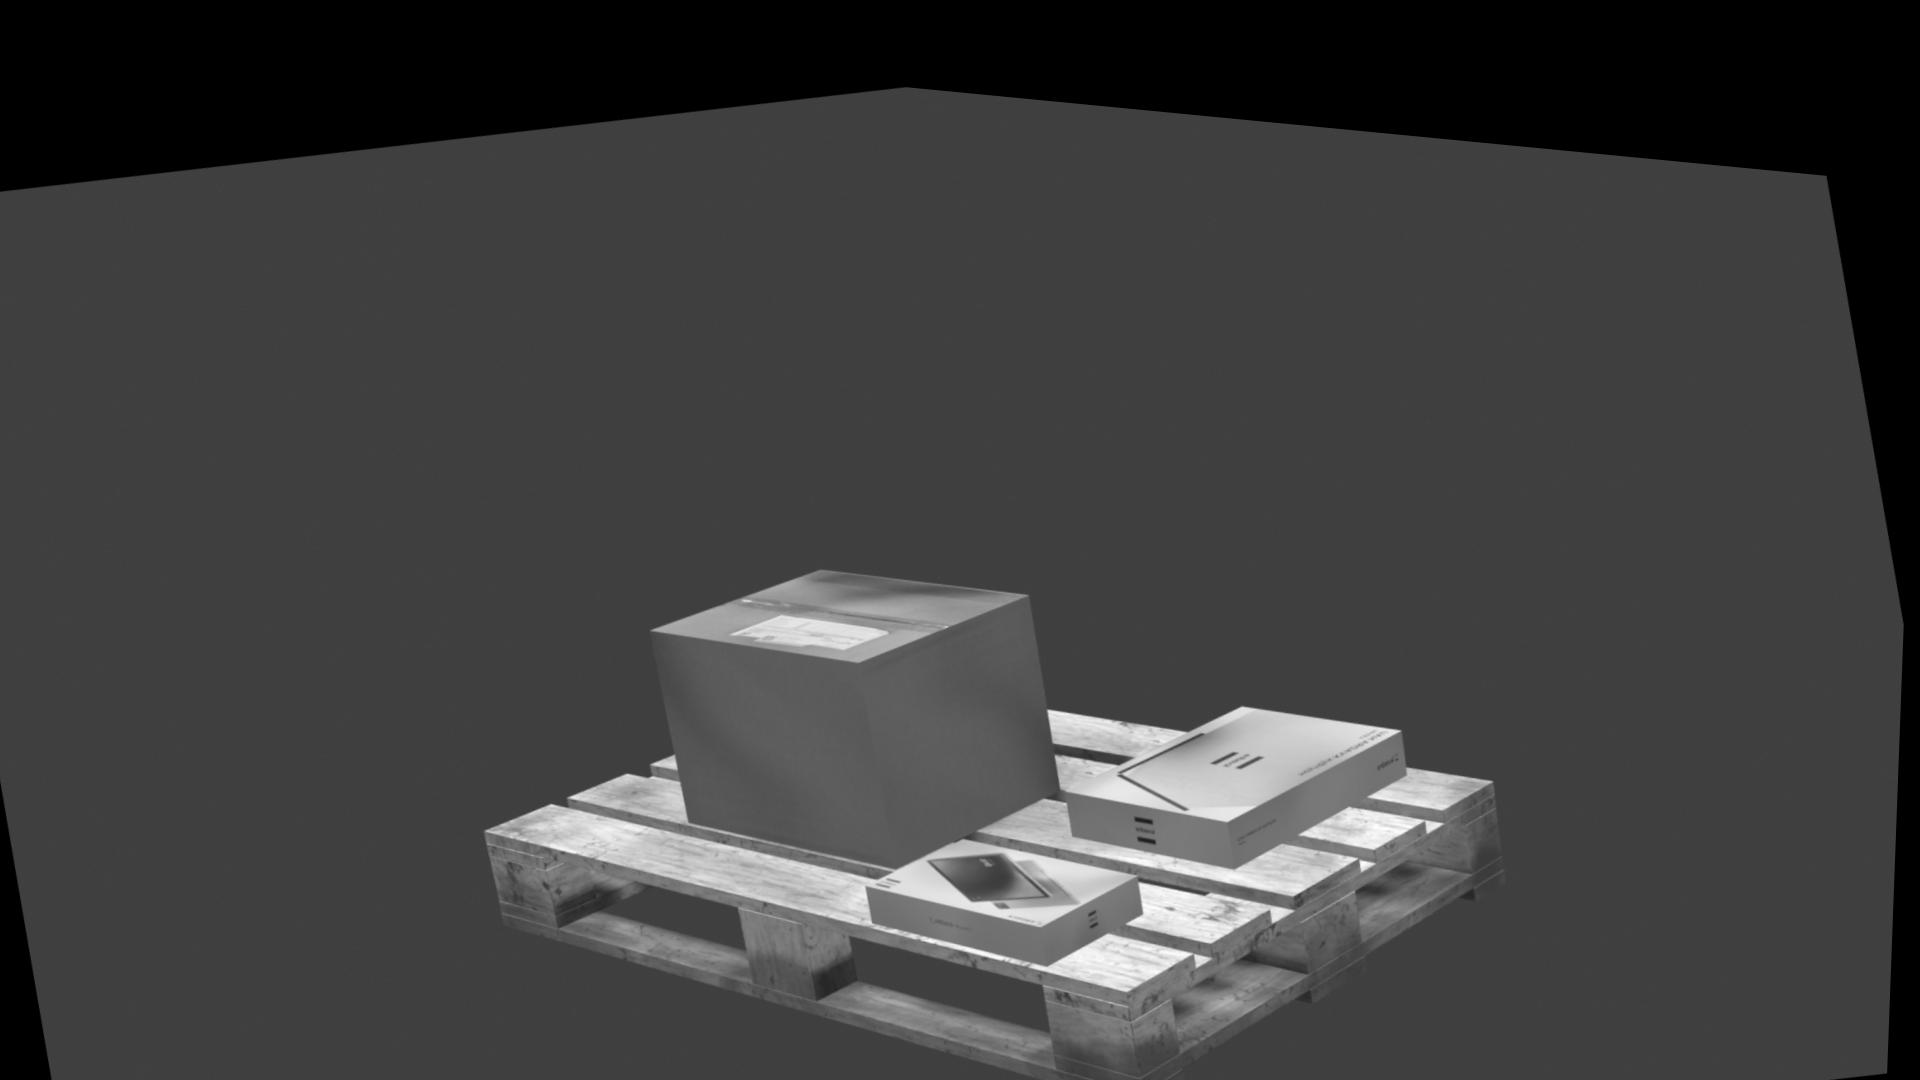group_box_left: (655, 572, 1065, 851)
group_box_top: (657, 550, 1030, 645)
laptop_left: (1072, 702, 1411, 843)
laptop_top: (1075, 680, 1404, 795)
palet: (489, 687, 1513, 1080)
tablet_left: (872, 855, 1147, 943)
tablet_top: (874, 818, 1142, 905)
